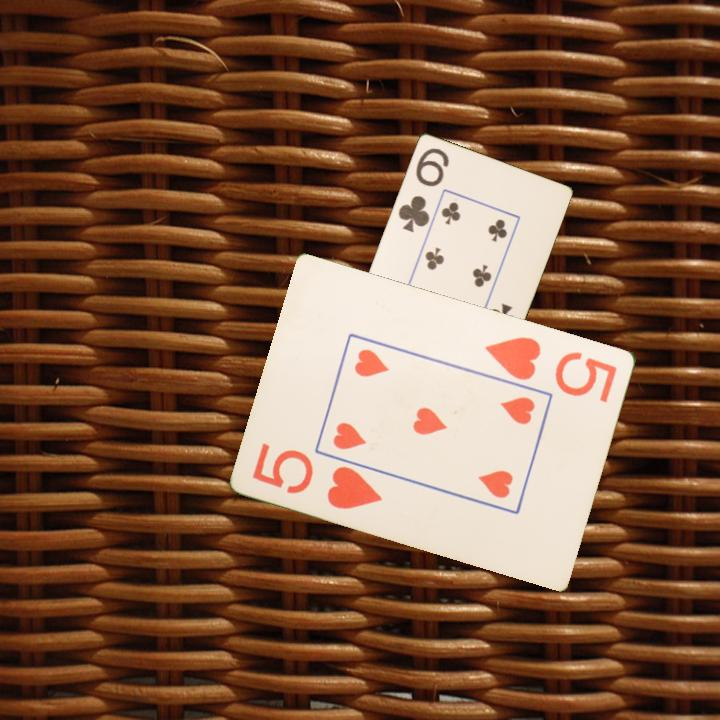5h: (482, 332, 621, 406), (249, 439, 386, 512)
6c: (394, 144, 452, 235)
